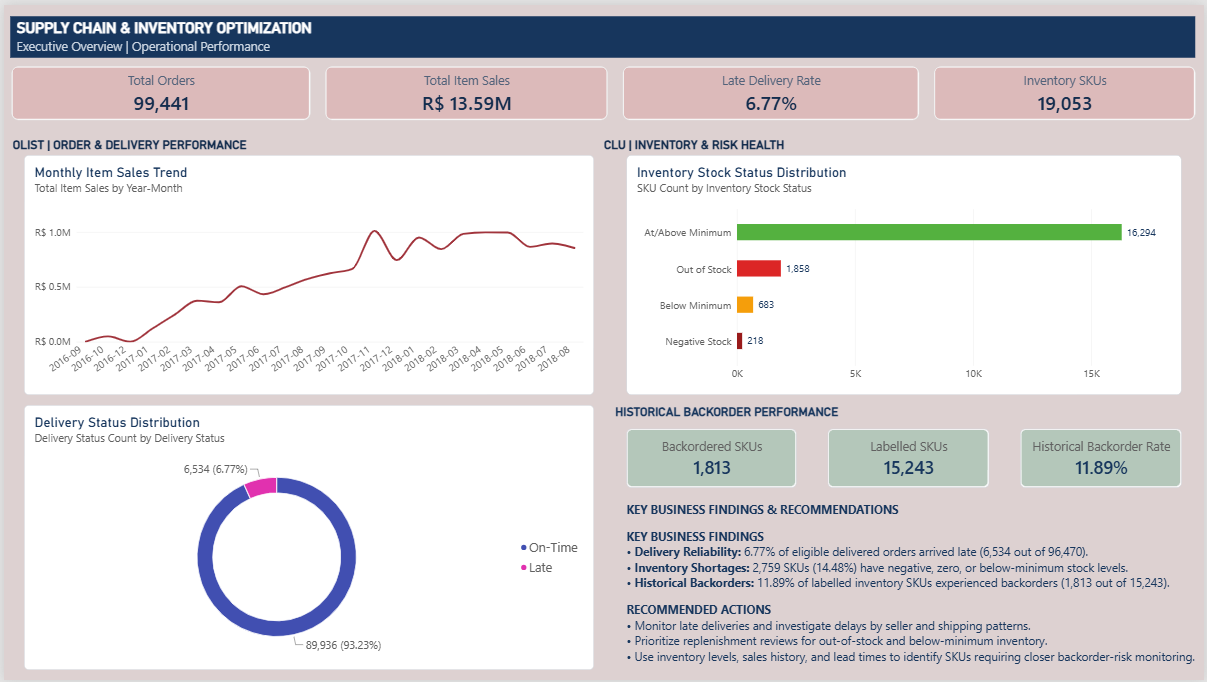

The page's visual inventory and layout, read from the dashboard file:
{"tool":"powerbi","page":{"name":"01 \\| Executive Overview","canvas":[1920,1080],"ordinal":1},"visuals":[{"type":"textbox","title":"SUPPLY CHAIN & INVENTORY OPTIMIZATION","box":[10,18,1896,66],"z":0},{"type":"textbox","title":"OLIST | ORDER & DELIVERY PERFORMANCE","box":[14,212,475,28.3],"z":1000},{"type":"textbox","title":"CLU | INVENTORY & RISK HEALTH","box":[960,212,416.7,28.3],"z":2000},{"type":"cardVisual","fields":{"Data":["Dim_Date.Total Orders"]},"box":[12,98,478,86],"z":4000},{"type":"cardVisual","fields":{"Data":["Dim_Date.Total Item Sales"]},"box":[514,98,452,86],"z":5000},{"type":"cardVisual","fields":{"Data":["Dim_Date.Late Delivery Rate"]},"box":[990,98,474,86],"z":6000},{"type":"cardVisual","fields":{"Data":["mart fact_inventory.Verify Inventory"]},"box":[1488,98,418,86],"z":7000},{"type":"lineChart","title":"Monthly Item Sales Trend","fields":{"Category":["Dim_Date.Year-Month"],"Y":["Dim_Date.Total Item Sales"]},"box":[32,240,912,384],"z":8000},{"type":"donutChart","title":"Delivery Status Distribution","fields":{"Category":["Delivery_Status.Delivery Status"],"Y":["Delivery_Status.Delivery Status Count"]},"box":[32,640,912,424],"z":9000},{"type":"clusteredBarChart","title":"Inventory Stock Status Distribution","fields":{"Category":["mart fact_inventory.Inventory Stock Status"],"Y":["Delivery_Status.SKU Count"]},"box":[996,240,888,384],"z":10000},{"type":"cardVisual","fields":{"Data":["Delivery_Status.Backordered SKUs"]},"box":[996,678,272,94],"z":11000},{"type":"cardVisual","fields":{"Data":["Delivery_Status.Labelled SKUs"]},"box":[1318,678,258,94],"z":12000},{"type":"cardVisual","fields":{"Data":["Delivery_Status.Historical Backorder Rate"]},"box":[1626,678,258,94],"z":13000},{"type":"textbox","title":"HISTORICAL BACKORDER PERFORMANCE","box":[978,640,906,22],"z":14000},{"type":"textbox","box":[996,794,910,270],"z":15000}]}

Visuals, with their boxes in screenshot pixels (x1, y1, x2, y2), scaled from the page's 1920x1080 canvas onto the 1207x682 screenshot:
"SUPPLY CHAIN & INVENTORY OPTIMIZATION" textbox: <bbox>6, 11, 1198, 53</bbox>
"OLIST | ORDER & DELIVERY PERFORMANCE" textbox: <bbox>9, 134, 307, 152</bbox>
"CLU | INVENTORY & RISK HEALTH" textbox: <bbox>604, 134, 865, 152</bbox>
cardVisual - Dim_Date.Total Orders: <bbox>8, 62, 308, 116</bbox>
cardVisual - Dim_Date.Total Item Sales: <bbox>323, 62, 607, 116</bbox>
cardVisual - Dim_Date.Late Delivery Rate: <bbox>622, 62, 920, 116</bbox>
cardVisual - mart fact_inventory.Verify Inventory: <bbox>935, 62, 1198, 116</bbox>
"Monthly Item Sales Trend" lineChart: <bbox>20, 152, 593, 394</bbox>
"Delivery Status Distribution" donutChart: <bbox>20, 404, 593, 672</bbox>
"Inventory Stock Status Distribution" clusteredBarChart: <bbox>626, 152, 1184, 394</bbox>
cardVisual - Delivery_Status.Backordered SKUs: <bbox>626, 428, 797, 488</bbox>
cardVisual - Delivery_Status.Labelled SKUs: <bbox>829, 428, 991, 488</bbox>
cardVisual - Delivery_Status.Historical Backorder Rate: <bbox>1022, 428, 1184, 488</bbox>
"HISTORICAL BACKORDER PERFORMANCE" textbox: <bbox>615, 404, 1184, 418</bbox>
textbox: <bbox>626, 501, 1198, 672</bbox>
